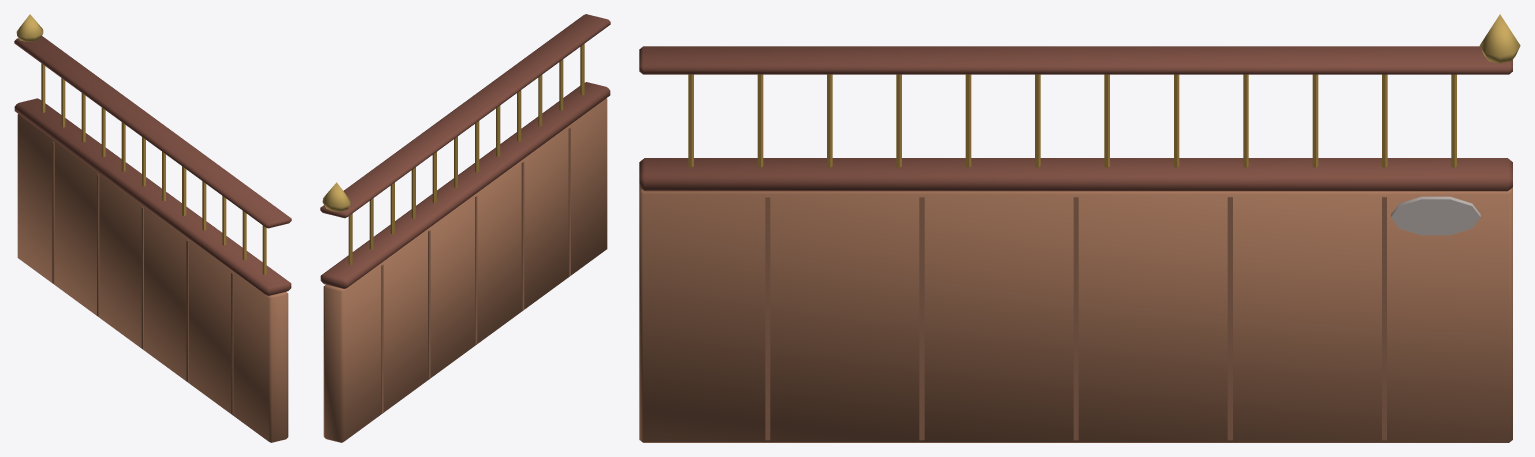
Rendered from stall_divider.glb.
3 renders of one model, left to right at view 1: azimuth 30°, elevation 25°; view 2: azimuth 150°, elevation 25°; view 3: azimuth 270°, elevation 25°, orthographic. The views are drawn at different scales.
Visible parts, largest first — view 1: stall_divider; view 2: stall_divider; view 3: stall_divider.
Part boxes in pixels (box(x1,y1,x2,y2)): stall_divider: box(14, 14, 291, 442); stall_divider: box(320, 14, 610, 442); stall_divider: box(639, 14, 1520, 442).
Size of what is drawn, in the model's own units: 0.2 by 1.8 by 3.4.
